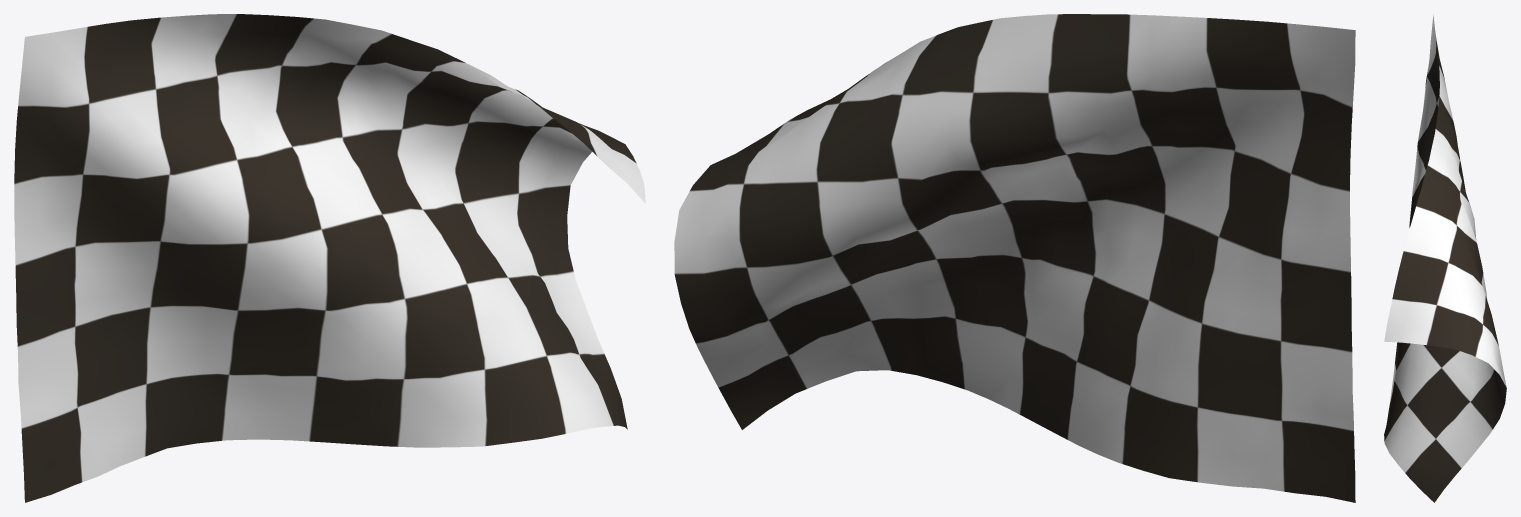
Rendered from checkered_racing_flag.glb.
3 views of the same model, side by side, from view 1: azimuth 30°, elevation 25°; view 2: azimuth 150°, elevation 25°; view 3: azimuth 270°, elevation 25° (orthographic). The views are drawn at different scales.
Visible parts, largest first — view 1: Flag ShapeKeys_2_4; view 2: Flag ShapeKeys_2_4; view 3: Flag ShapeKeys_2_4.
Boxes of the visible parts, x1,y1,x2,y2 form: Flag ShapeKeys_2_4: (14,14,645,502); Flag ShapeKeys_2_4: (674,14,1355,502); Flag ShapeKeys_2_4: (1384,15,1506,502).
Bounding box in the file's own units: 2.8 × 2.32 × 0.8164.
Materials: 1 (1 with a texture image).
